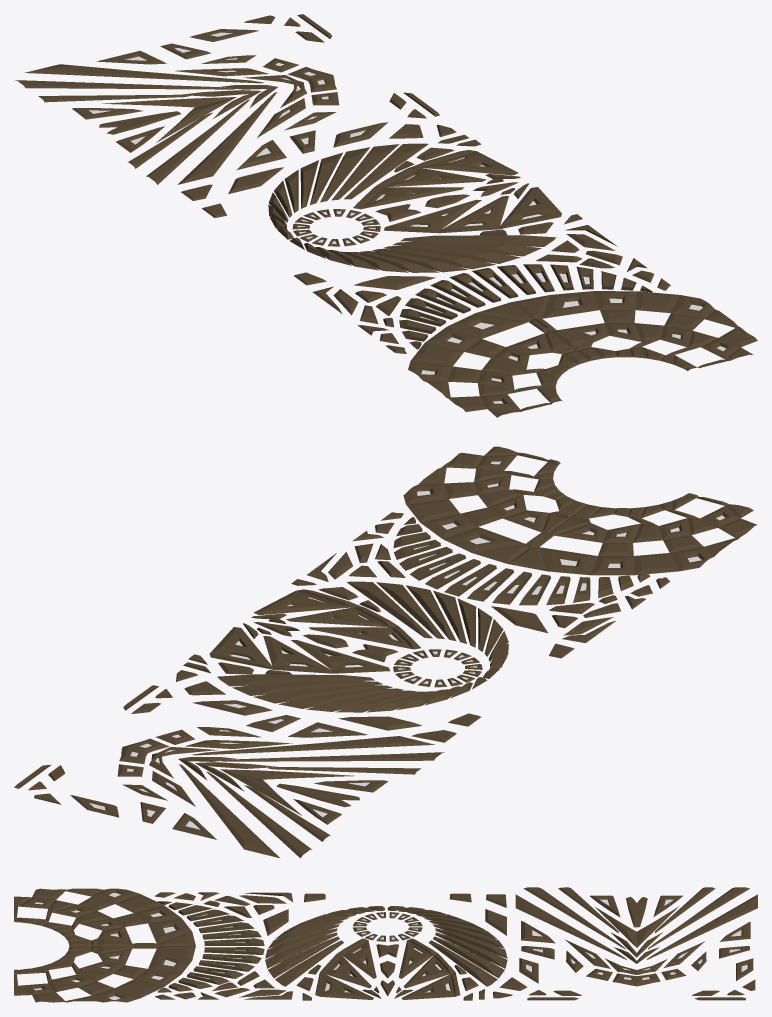
The model's file is Deco-Tableau.fbx.
3 renders of one model, top to bottom at view 1: azimuth 30°, elevation 25°; view 2: azimuth 150°, elevation 25°; view 3: azimuth 270°, elevation 25°, orthographic. The views are drawn at different scales.
Visible parts, largest first — view 1: Deco-Tableau; view 2: Deco-Tableau; view 3: Deco-Tableau.
Boxes of the visible parts, bbox=[...] form: Deco-Tableau: bbox=[15, 14, 757, 417]; Deco-Tableau: bbox=[14, 446, 757, 858]; Deco-Tableau: bbox=[14, 887, 757, 1002].
Size of the model in its own units: 5731 by 84.53 by 15972.
